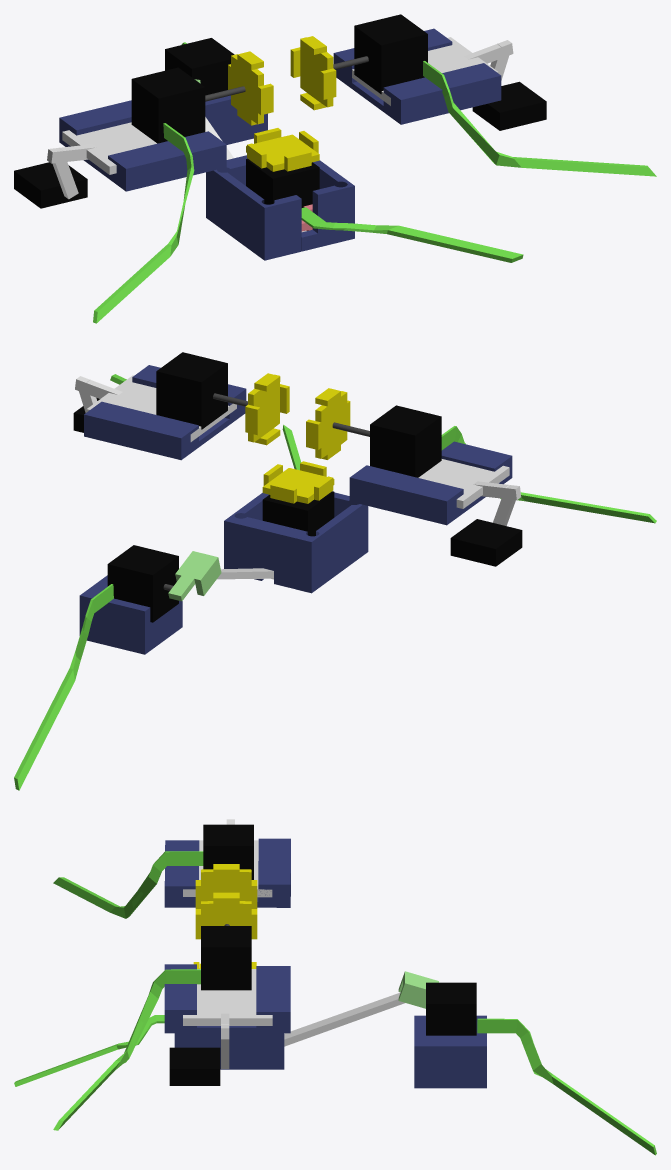
The picture shows the model from 3 angles, top to bottom: view 1: azimuth 30°, elevation 25°; view 2: azimuth 150°, elevation 25°; view 3: azimuth 270°, elevation 25°; orthographic projection. The views are drawn at different scales.
Visible parts, largest first — view 1: Cube.004, Cube.017, Cube.012, Cube.007, Cube.009, Cube.023, Cube.010, Cube.005, Cube.022, Cube.008, Cube.003, Cube.002 (+9 smaller); view 2: Cube.004, Cube.017, Cube.012, Cube.009, Cube.007, Cube.021, Cube.005, Cube.018, Cube.025, Cube.010, Cube.008, Cube.003 (+5 smaller); view 3: Cube.012, Cube.021, Cube.017, Cube.009, Cube.004, Cube.005, Cube.011, Cube.025, Cube.007, Cube.024, Cube.023, Cube.013 (+6 smaller).
Part boxes in pixels (x1,y1,x2,y2): Cube.004: (206, 155, 354, 260); Cube.017: (59, 100, 226, 191); Cube.012: (333, 28, 501, 124); Cube.007: (131, 67, 205, 143); Cube.009: (354, 14, 427, 94); Cube.023: (423, 61, 656, 176); Cube.010: (290, 36, 336, 110); Cube.005: (165, 38, 234, 95); Cube.022: (301, 207, 523, 262); Cube.008: (228, 51, 273, 125); Cube.003: (246, 128, 319, 171); Cube.002: (246, 158, 319, 207); Cube.004: (224, 492, 368, 593); Cube.017: (349, 441, 512, 525); Cube.012: (84, 365, 246, 460); Cube.009: (156, 352, 227, 429); Cube.007: (370, 405, 441, 477); Cube.021: (79, 575, 182, 654); Cube.005: (107, 545, 178, 622); Cube.018: (450, 519, 522, 566); Cube.025: (14, 584, 113, 790); Cube.010: (245, 373, 289, 445); Cube.008: (306, 388, 350, 459); Cube.003: (262, 461, 334, 503); Cube.012: (164, 964, 290, 1033); Cube.021: (414, 1015, 486, 1088); Cube.017: (164, 838, 290, 907); Cube.009: (201, 926, 251, 990); Cube.004: (174, 1033, 284, 1069); Cube.005: (426, 982, 476, 1035); Cube.011: (183, 969, 272, 1025); Cube.025: (477, 1018, 656, 1155); Cube.007: (203, 824, 253, 879); Cube.024: (53, 851, 203, 918); Cube.023: (53, 969, 200, 1130); Cube.013: (169, 1047, 220, 1085).
Size of the model in its own units: 2404 by 1072 by 2537.
